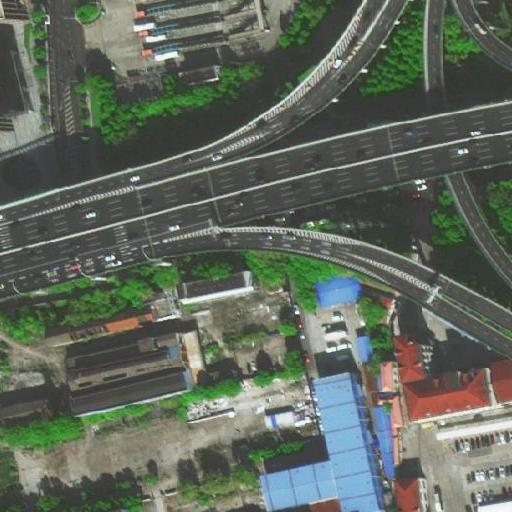building: (312, 370, 386, 508), (65, 357, 192, 420), (403, 362, 509, 423), (63, 326, 179, 373), (258, 456, 343, 512), (74, 300, 173, 341), (179, 268, 254, 303), (113, 61, 172, 99), (3, 393, 60, 426), (313, 273, 360, 307), (400, 334, 434, 380), (170, 56, 221, 85), (393, 470, 426, 512), (0, 360, 49, 388), (182, 327, 206, 368), (354, 324, 378, 360), (379, 353, 403, 389), (263, 402, 297, 426), (41, 327, 73, 351), (476, 494, 512, 512), (208, 363, 235, 383)
